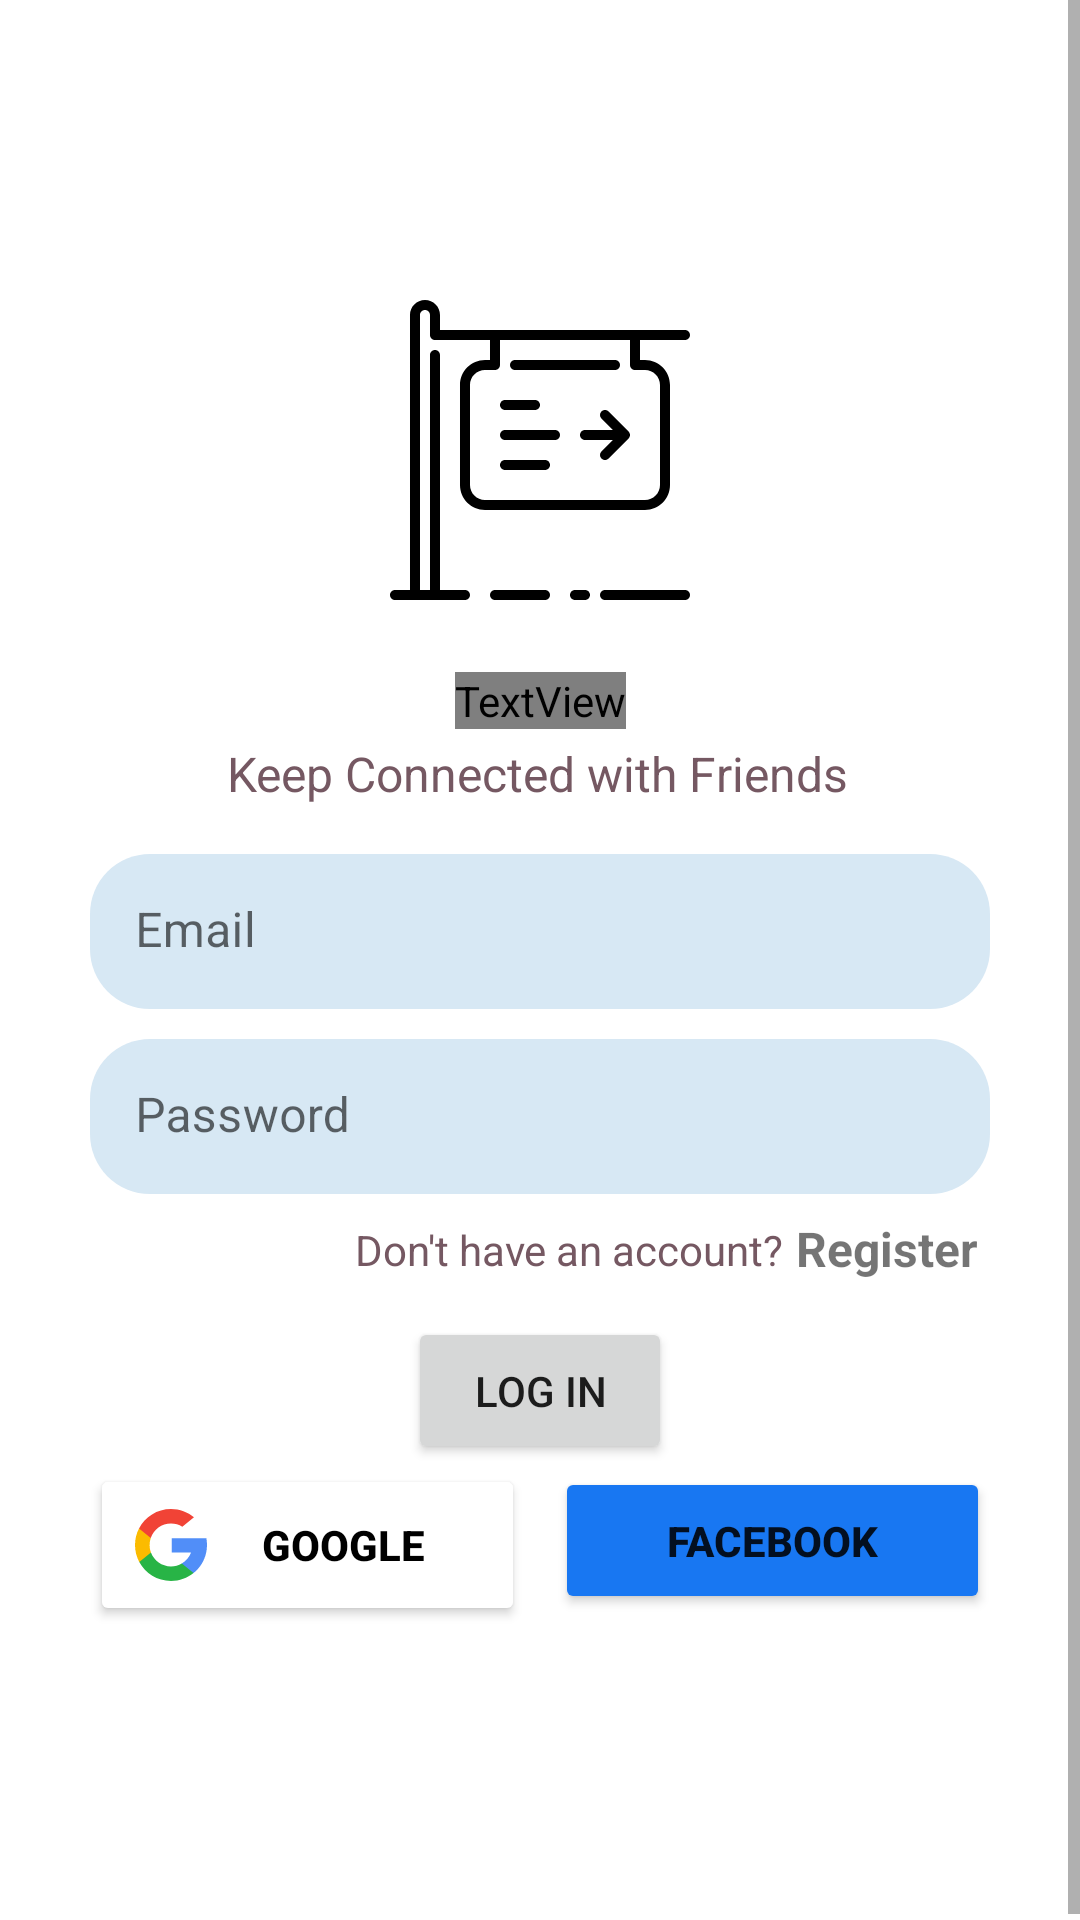

Screen size 1080px x 1920px. Icon name, then its box in pixels as (x1,y1,x2,y2):
post: (390,300,690,600)
